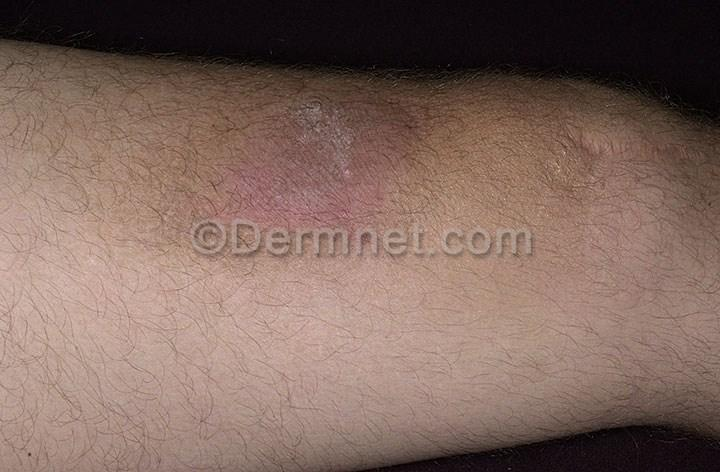Eczema: (299, 82, 393, 173), (268, 173, 376, 239), (206, 162, 268, 244), (237, 108, 305, 161), (388, 95, 449, 152), (380, 155, 430, 222)
